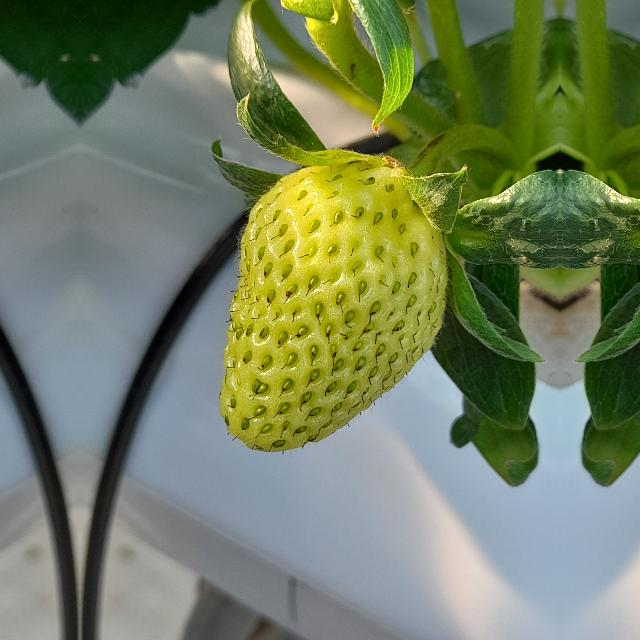Health_25: (218, 158, 448, 454)
